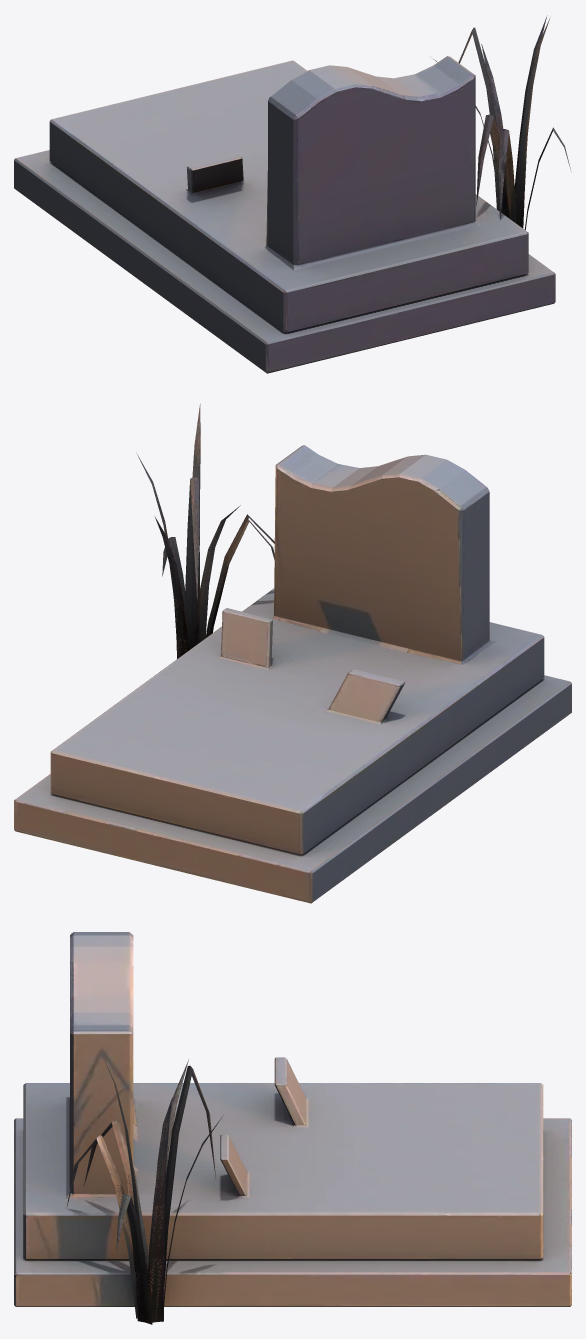
3 views of the same model, one above another, from view 1: azimuth 30°, elevation 25°; view 2: azimuth 150°, elevation 25°; view 3: azimuth 270°, elevation 25° (orthographic). The views are drawn at different scales.
Visible parts, largest first — view 1: Tombe1; view 2: Tombe1; view 3: Tombe1.
Part boxes in pixels (x1,y1,x2,y2): Tombe1: [14, 15, 571, 373]; Tombe1: [14, 403, 571, 903]; Tombe1: [14, 932, 571, 1324].
Bounding box in the file's own units: 1.73 × 1.18 × 2.15.
1 material, 1 textured.
